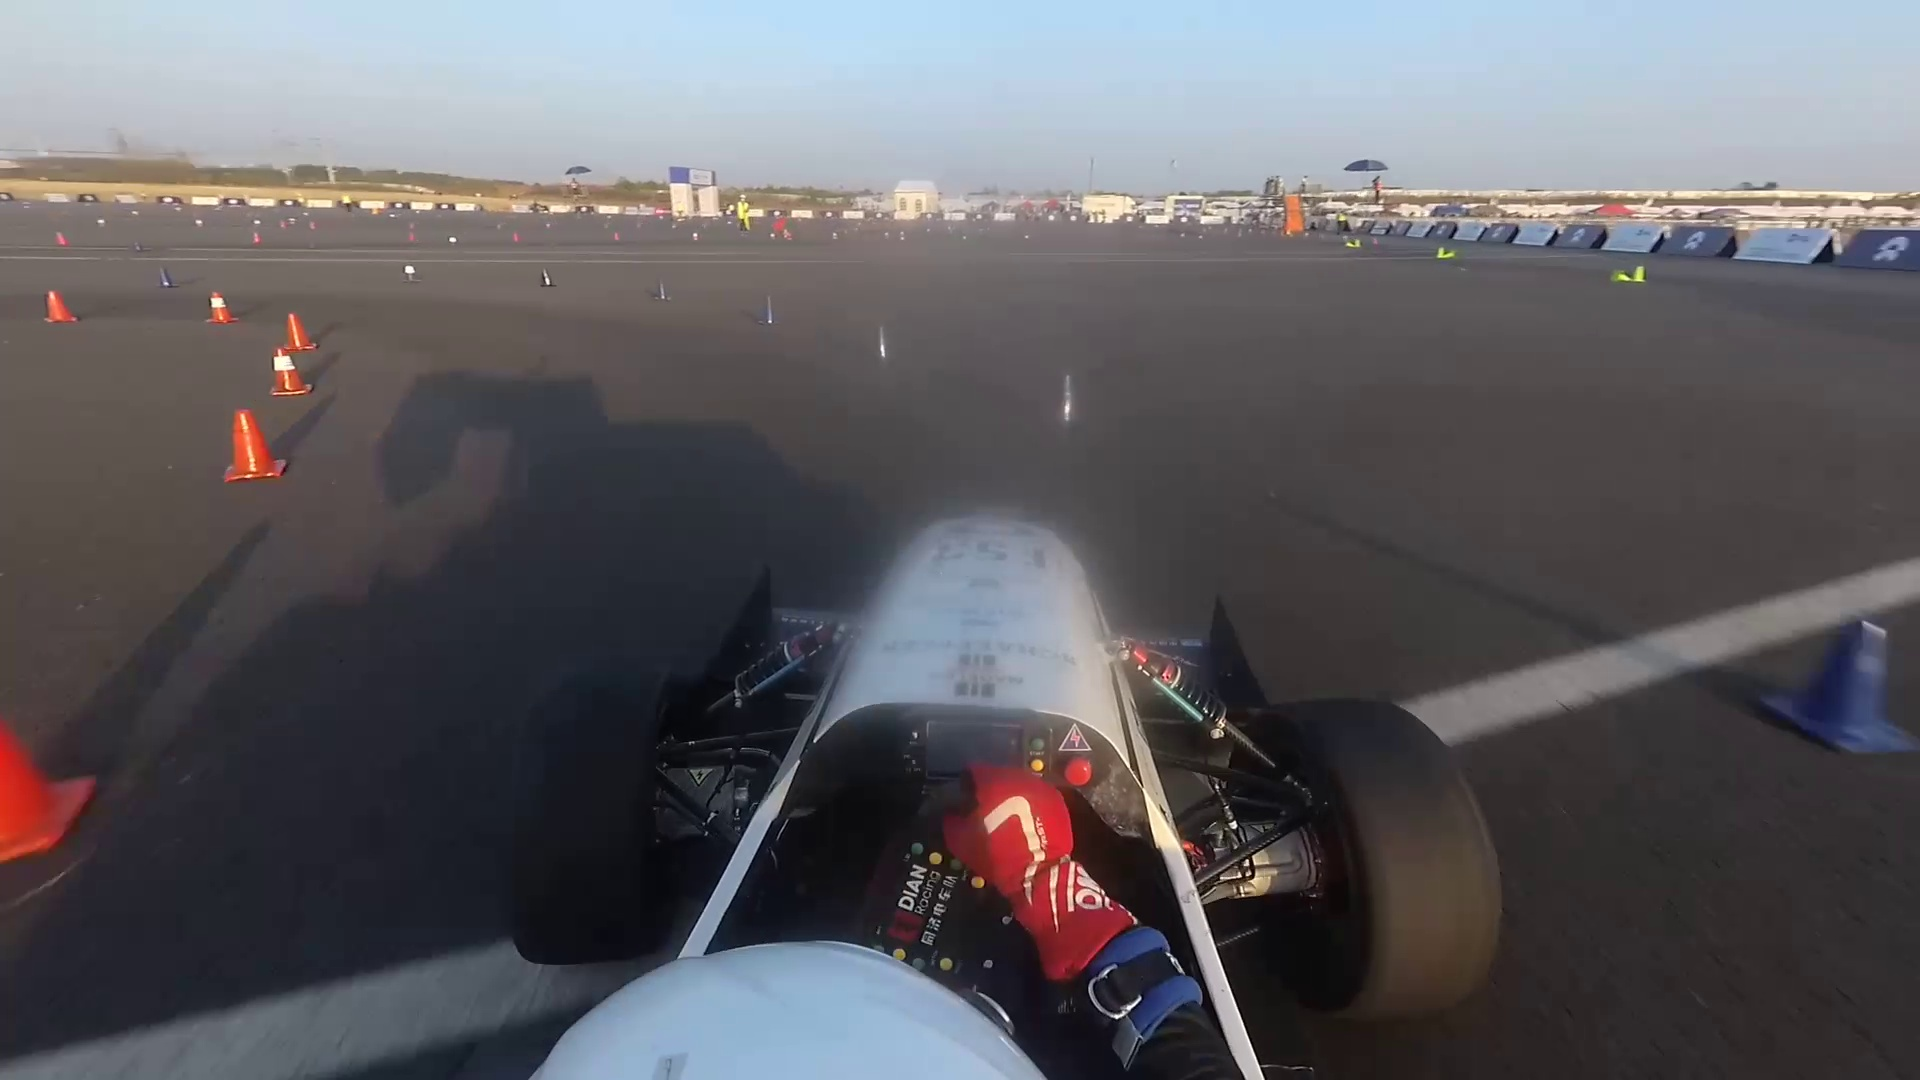blue_cone: (1785, 620, 1902, 760), (1042, 373, 1089, 435), (862, 322, 897, 375), (757, 290, 781, 330), (646, 280, 673, 301), (534, 266, 553, 286), (401, 265, 419, 284), (156, 266, 170, 289), (446, 237, 460, 248), (132, 241, 142, 252)
red_cone: (222, 411, 280, 489), (3, 756, 46, 847), (266, 352, 311, 397), (278, 313, 316, 345), (202, 291, 233, 324), (41, 291, 71, 323), (55, 232, 69, 247), (252, 233, 261, 244)
